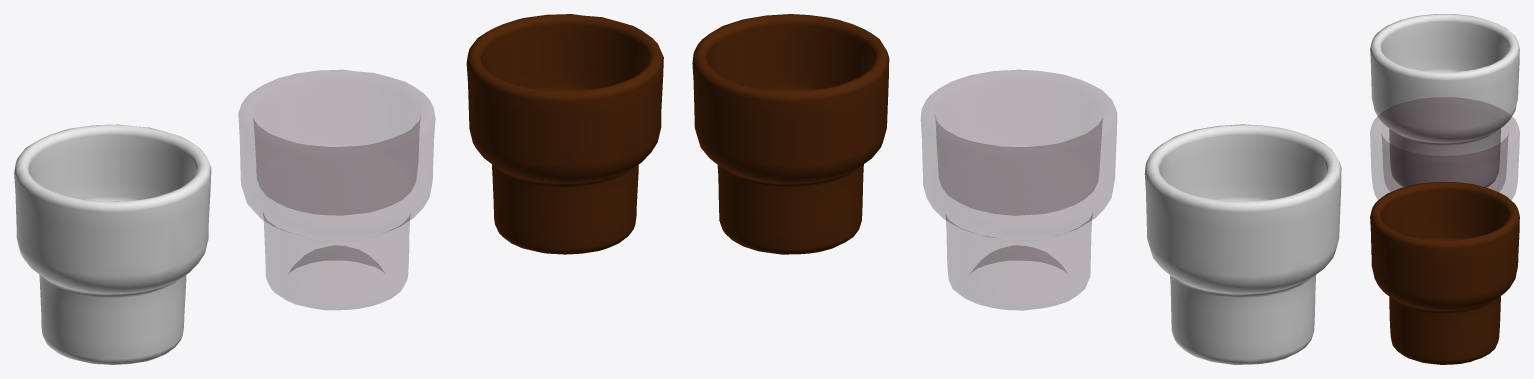
Rendered from ladusvala_swiecznik_na_tealighty_20605904.glb.
3 views of the same model, side by side, from view 1: azimuth 30°, elevation 25°; view 2: azimuth 150°, elevation 25°; view 3: azimuth 270°, elevation 25° (orthographic). The views are drawn at different scales.
Parts seen in each view (by area): view 1: ladusvala_swiecznik_na_tealighty_20605904; view 2: ladusvala_swiecznik_na_tealighty_20605904; view 3: ladusvala_swiecznik_na_tealighty_20605904.
Part boxes in pixels (x1=…): ladusvala_swiecznik_na_tealighty_20605904: x1=14, y1=14, x2=663, y2=364; ladusvala_swiecznik_na_tealighty_20605904: x1=692, y1=14, x2=1341, y2=364; ladusvala_swiecznik_na_tealighty_20605904: x1=1370, y1=14, x2=1519, y2=364.
Bounding box in the file's own units: 0.198 × 0.0532 × 0.0542.
3 materials, 3 textured.
